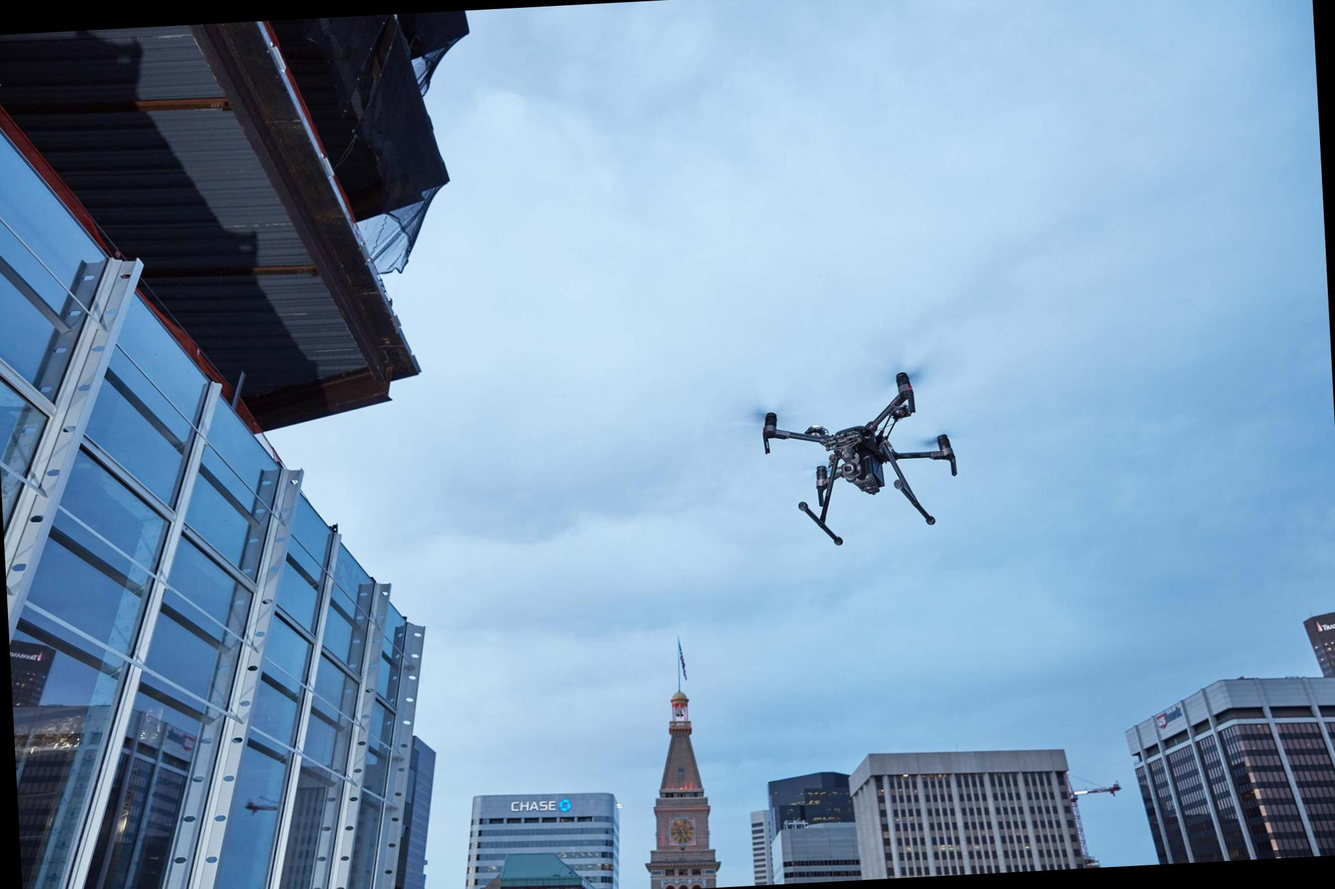drone: (725, 347, 979, 554)
